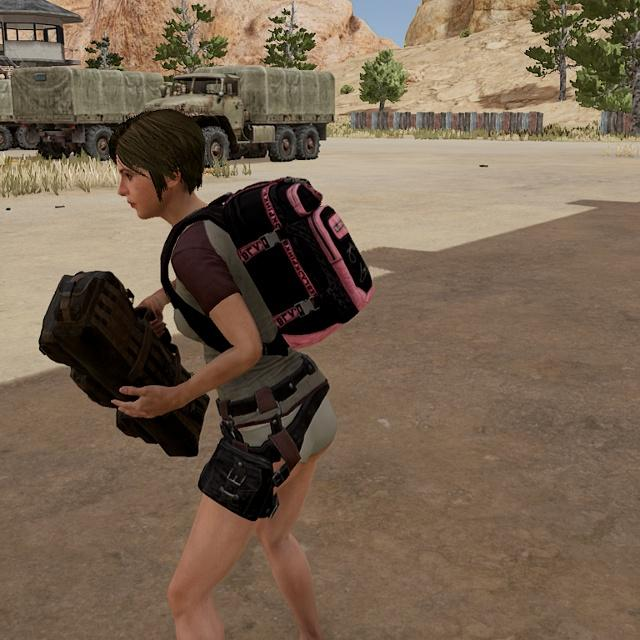head: (106, 105, 208, 222)
people: (103, 105, 344, 640)
